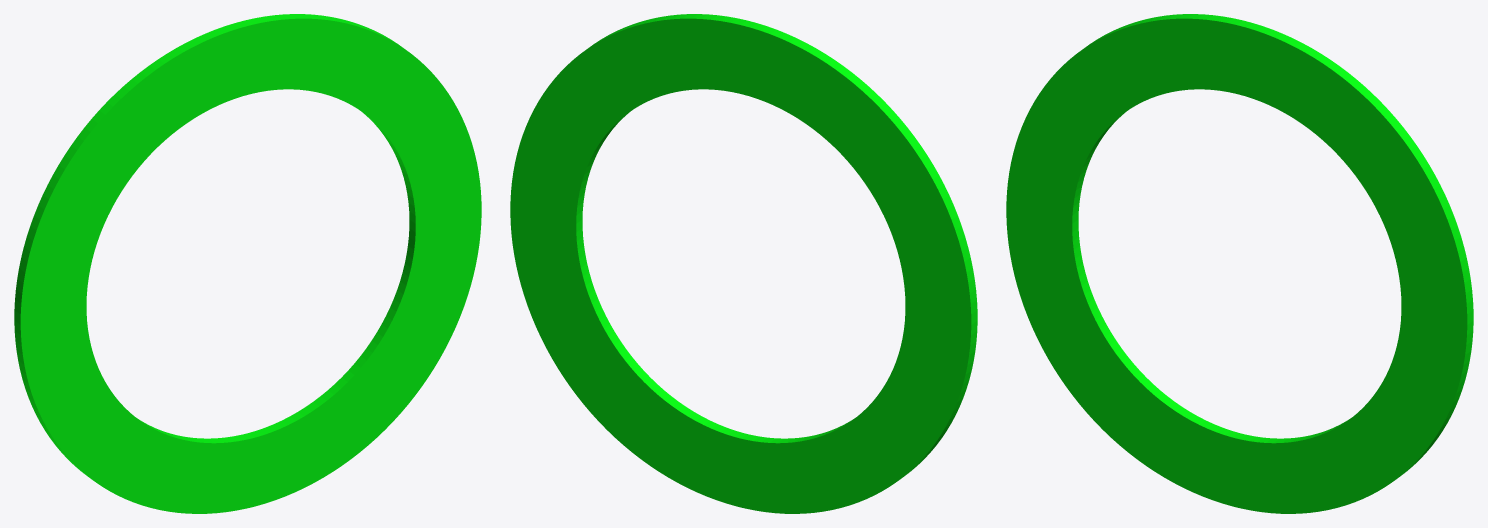
The model's file is gate_round_small_green.dae.
The picture shows the model from 3 angles, left to right: view 1: azimuth 30°, elevation 25°; view 2: azimuth 150°, elevation 25°; view 3: azimuth 330°, elevation 25°; orthographic projection.
Visible parts, largest first — view 1: gates_round_small; view 2: gates_round_small; view 3: gates_round_small.
Boxes of the visible parts, left/top/right/bottom form: gates_round_small: left=14, top=14, right=481, bottom=513; gates_round_small: left=510, top=14, right=977, bottom=513; gates_round_small: left=1006, top=14, right=1473, bottom=513.
Size of the model in its own units: 1.05 by 0.025 by 1.05.
